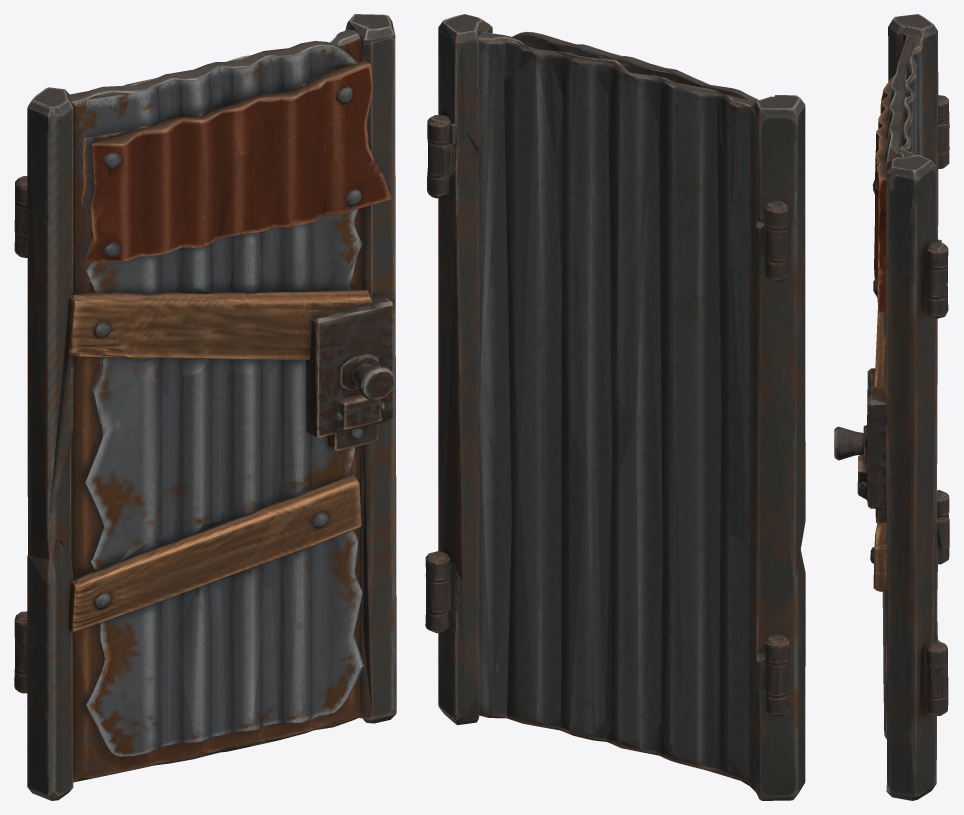
The model's file is door_scrap.glb.
3 views of the same model, side by side, from view 1: azimuth 30°, elevation 25°; view 2: azimuth 150°, elevation 25°; view 3: azimuth 270°, elevation 25° (orthographic). The views are drawn at different scales.
Visible parts, largest first — view 1: Mesh_0; view 2: Mesh_0; view 3: Mesh_0.
Part boxes in pixels (x1,y1,x2,y2): Mesh_0: (14, 14, 396, 800); Mesh_0: (425, 14, 805, 800); Mesh_0: (834, 14, 949, 800).
Size of what is drawn, in the model's own units: 0.0411 by 0.075 by 0.0124.
Materials: 1 (1 with a texture image).
